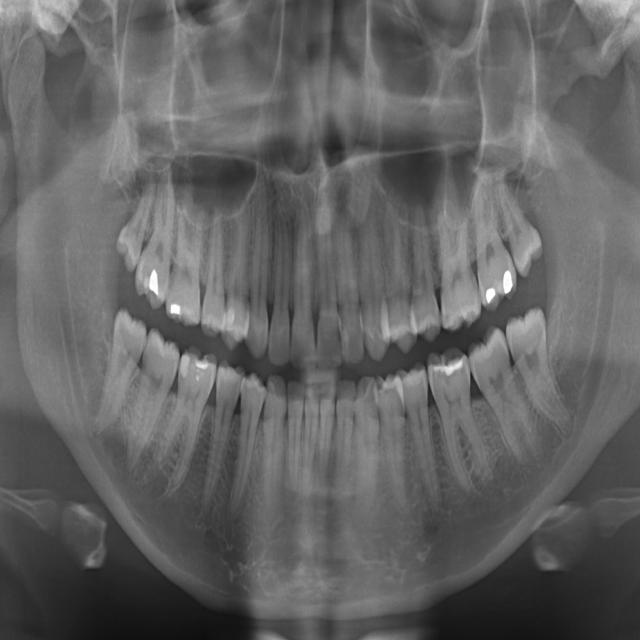AmalgamRestoration: (149, 262, 160, 300), (482, 286, 497, 306), (168, 300, 182, 320), (504, 271, 513, 300)
CompositeResinRestoration: (429, 349, 465, 376), (178, 351, 195, 389), (195, 356, 211, 385), (223, 306, 236, 336)
DentalCaries: (436, 372, 462, 402), (141, 260, 152, 288), (440, 312, 456, 330), (334, 324, 343, 351)
